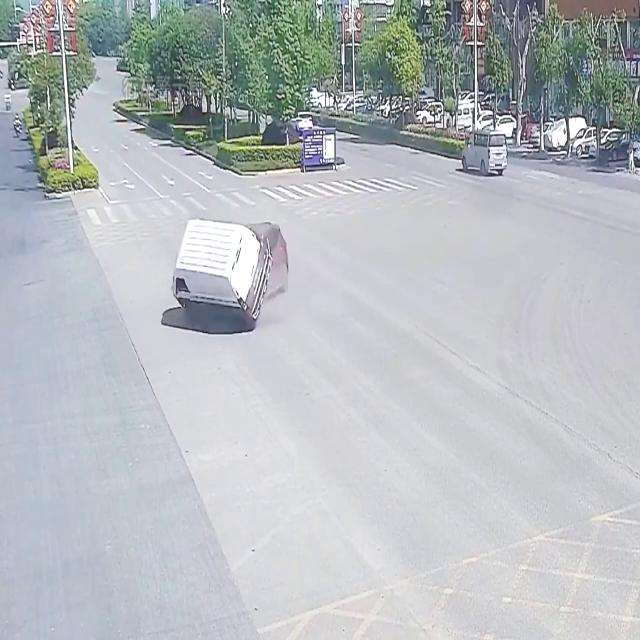accident: (172, 218, 288, 330)
non-accident: (306, 91, 630, 157), (418, 102, 630, 156), (304, 88, 414, 128)
